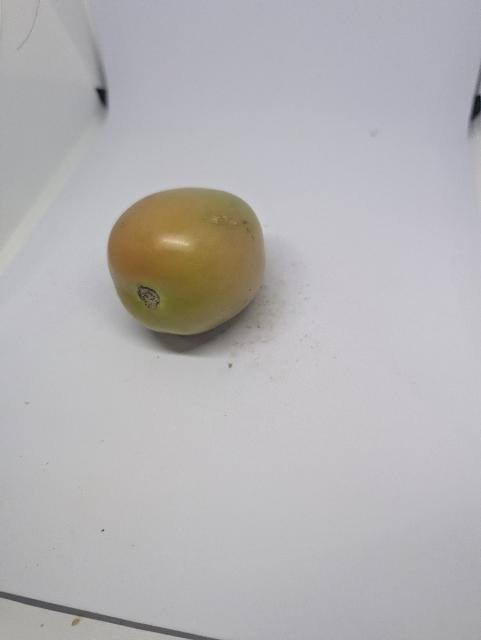breaker: (108, 188, 266, 335)
